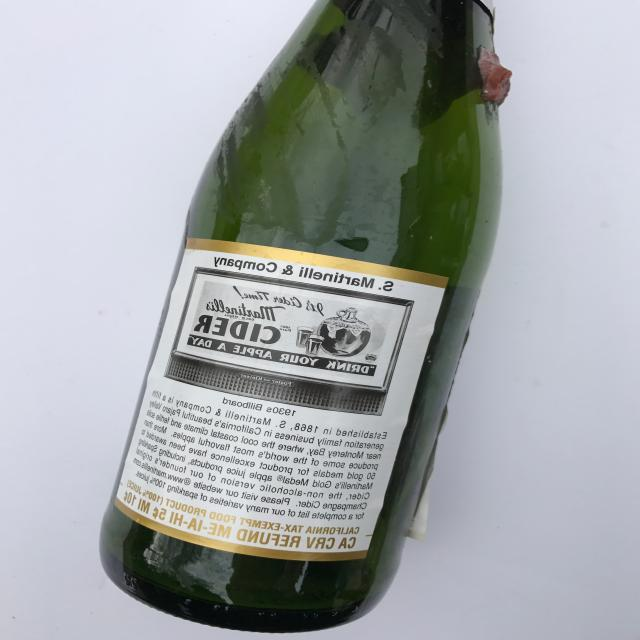glass: (98, 0, 508, 634)
